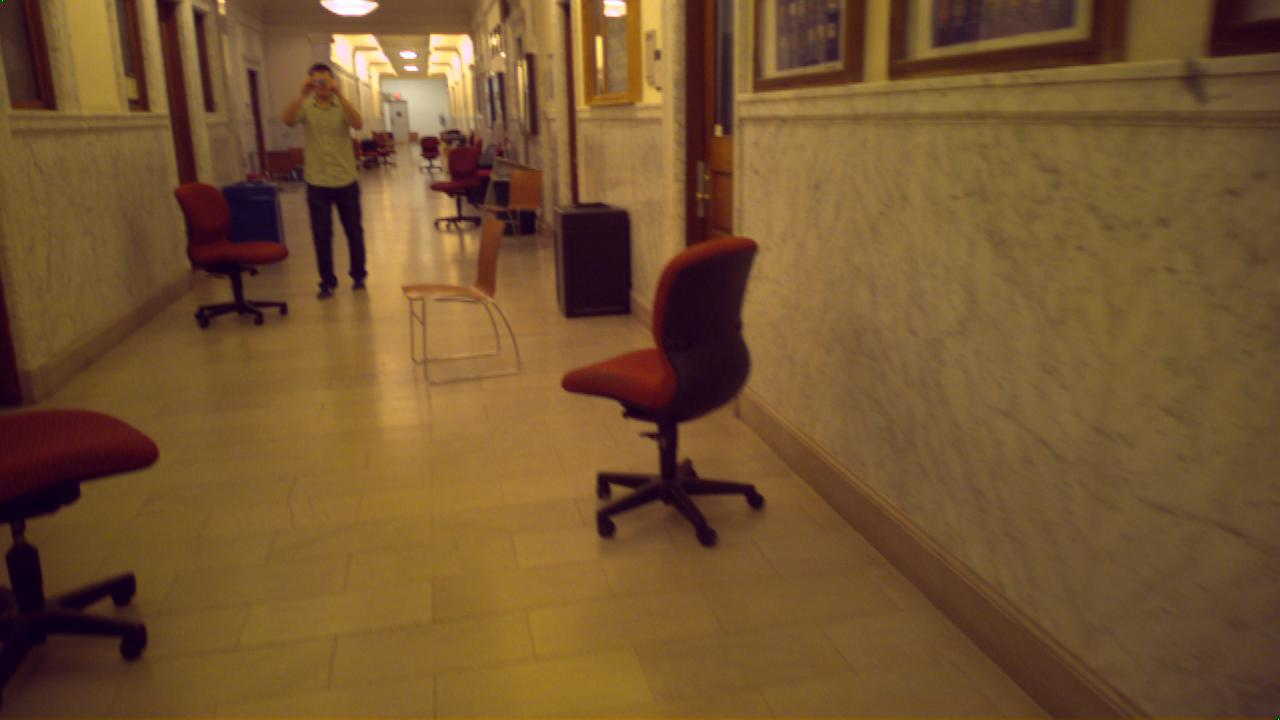chair: (566, 247, 762, 555), (173, 172, 289, 334), (426, 128, 473, 232)
